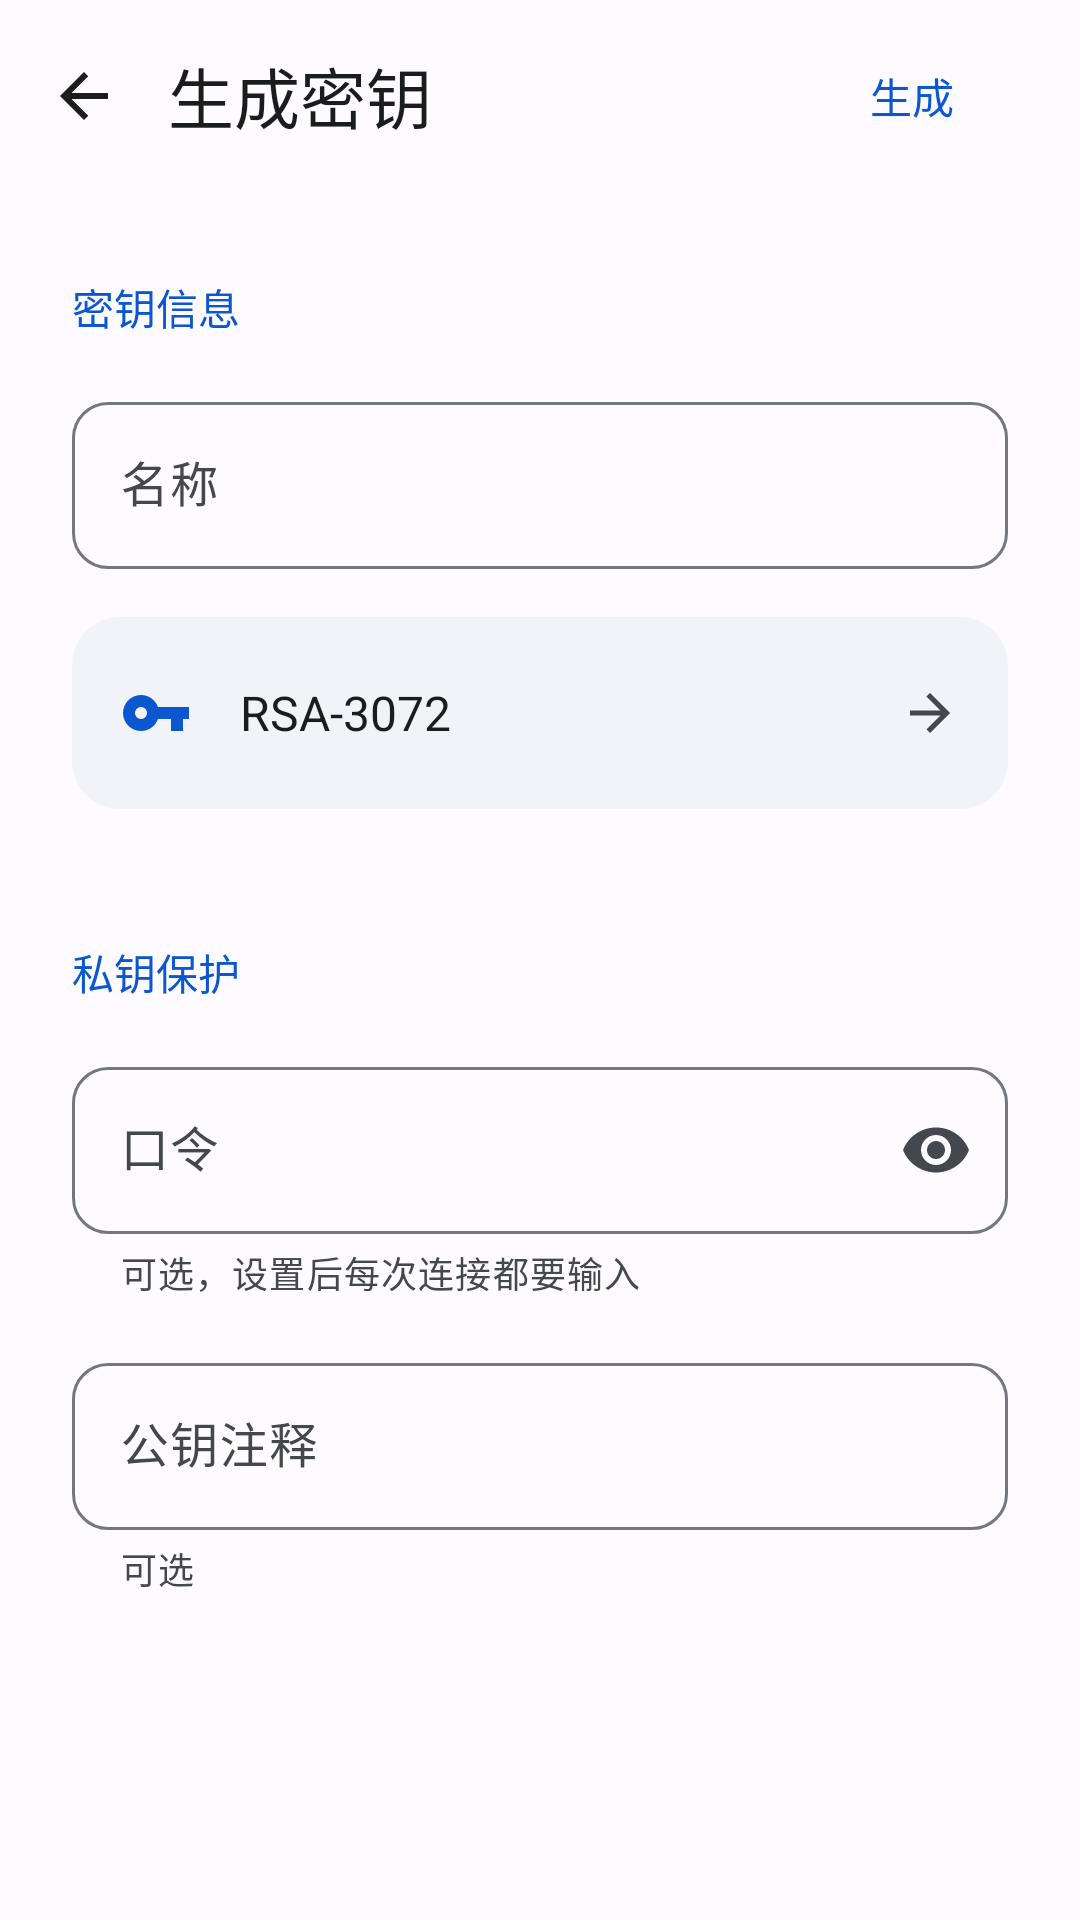

Where to tap for icons on this 1080x1920 app screen, as (x,y):
arrow forward: (930,713)
key: (156,713)
返回: (84,96)
